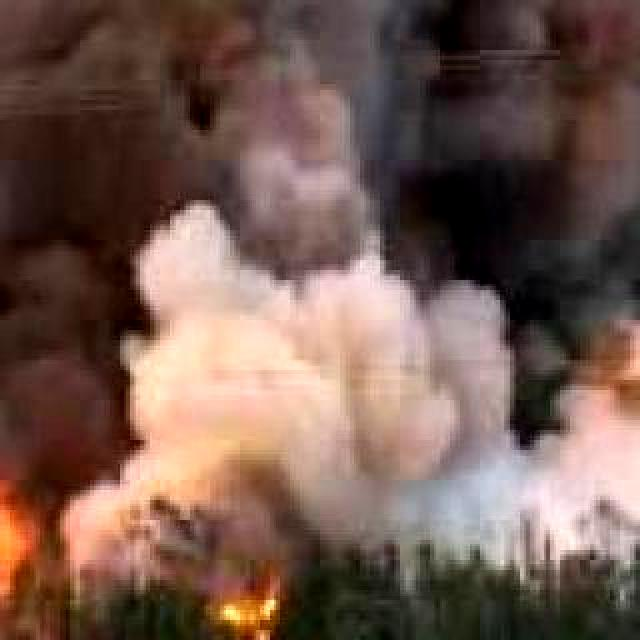fire: (84, 580, 314, 640), (0, 476, 46, 636)
